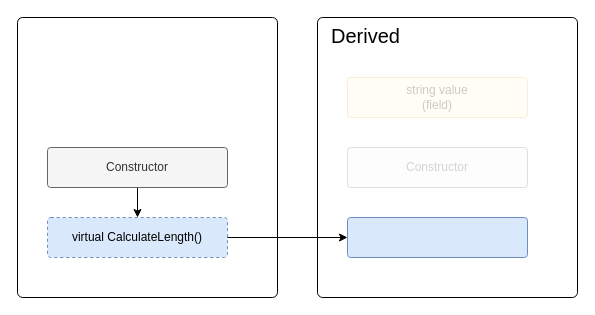
This 595x315 diagram has some shape labels left out. Each missing label, with the box of its shape:
Base: (16, 16, 278, 298)
override CalculateLength(): (346, 216, 528, 258)
